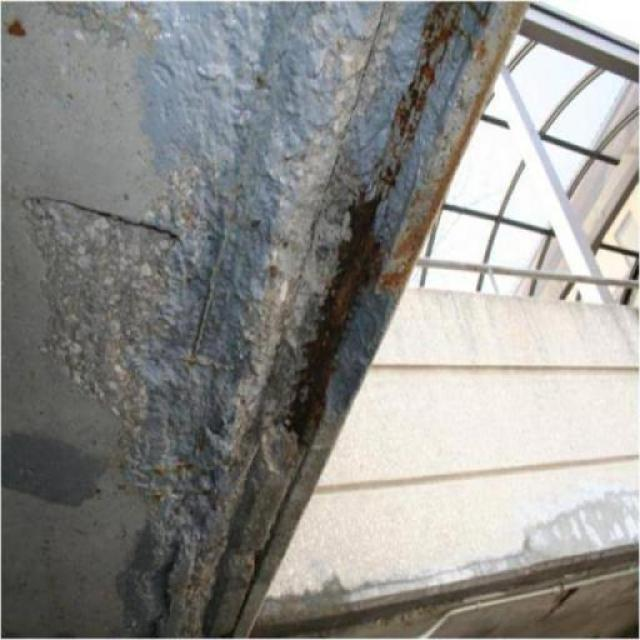D0w0: (31, 2, 531, 598)
